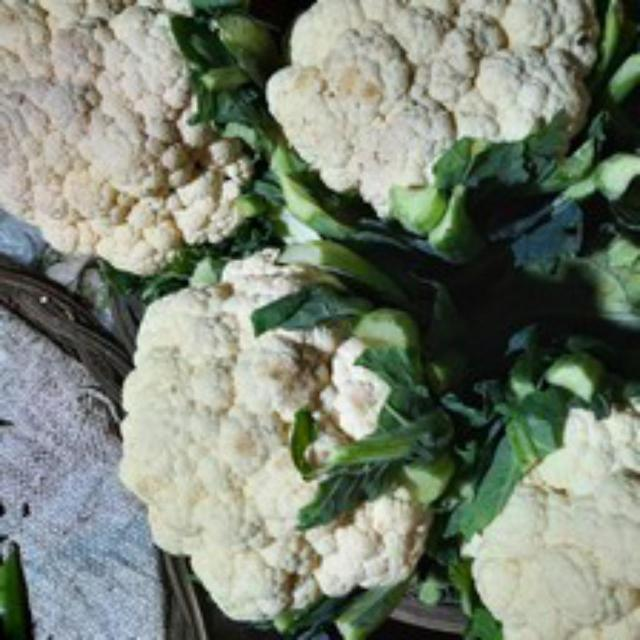cauliflower: (102, 226, 470, 635)
